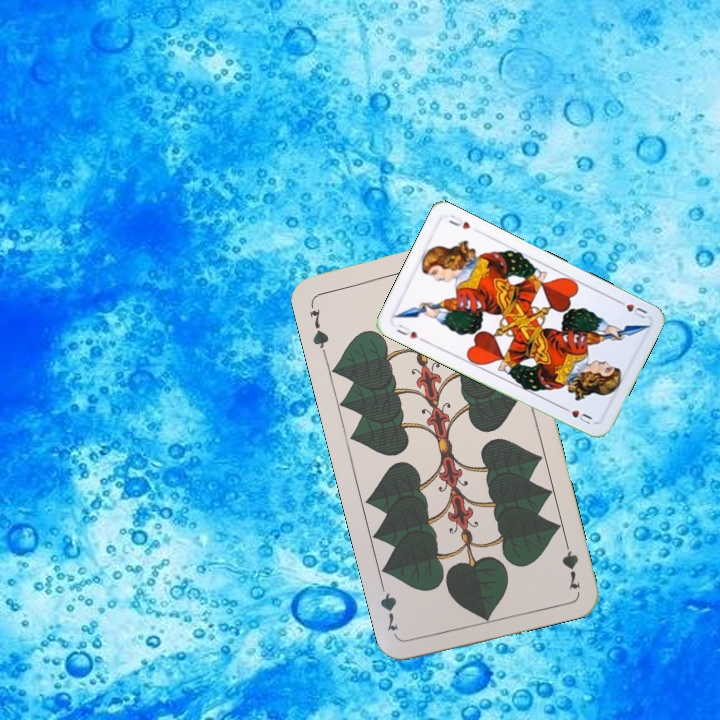G7: (305, 298, 331, 357), (558, 533, 583, 592)
HU: (612, 296, 650, 322), (392, 320, 428, 344)
